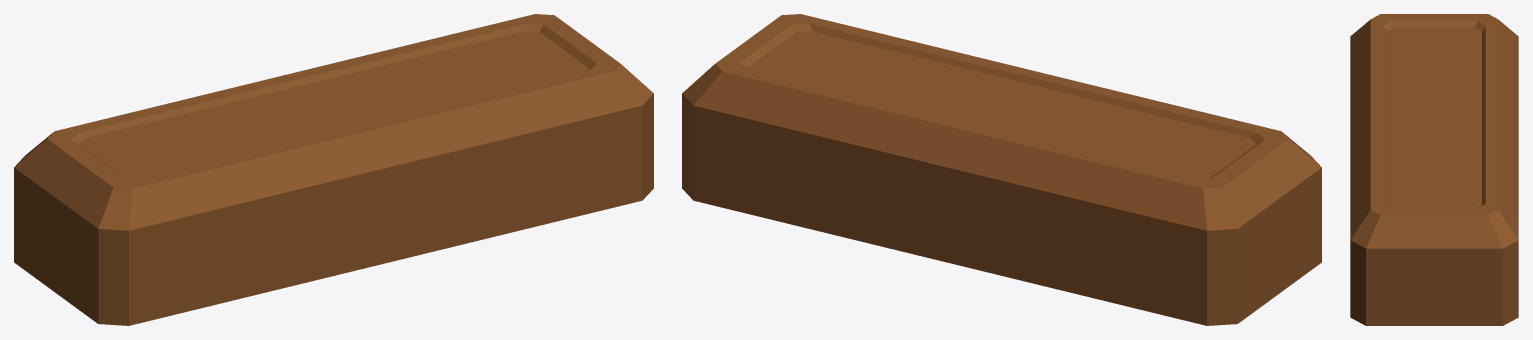
The model's file is CopperIngotB.fbx.
3 renders of one model, left to right at view 1: azimuth 30°, elevation 25°; view 2: azimuth 150°, elevation 25°; view 3: azimuth 270°, elevation 25°, orthographic. The views are drawn at different scales.
Visible parts, largest first — view 1: CopperIngotB; view 2: CopperIngotB; view 3: CopperIngotB.
Part boxes in pixels (box(x1,y1,x2,y2)): CopperIngotB: box(14, 14, 653, 325); CopperIngotB: box(682, 14, 1321, 325); CopperIngotB: box(1350, 14, 1518, 325).
Size of the model in its own units: 61.45 by 13.13 by 19.8.
